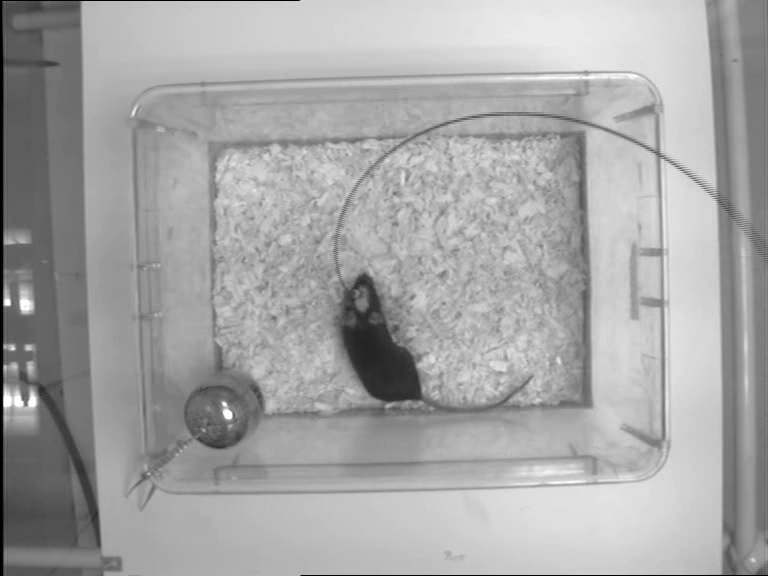mice: (335, 271, 533, 414)
